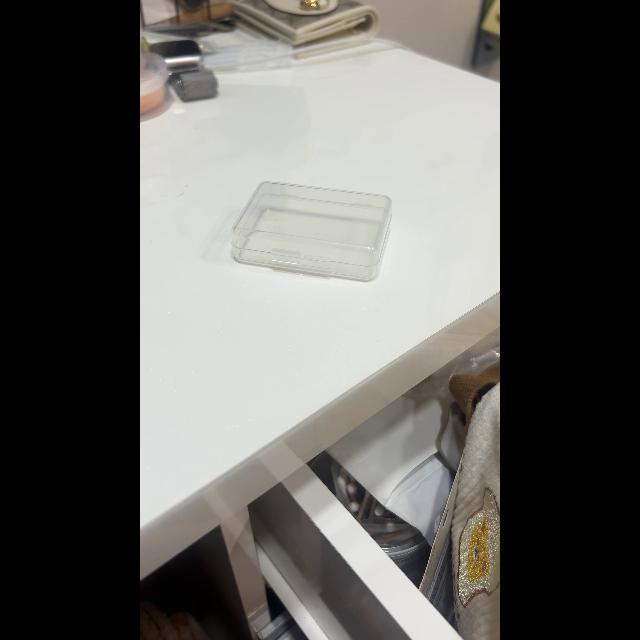clean: (229, 180, 393, 280)
